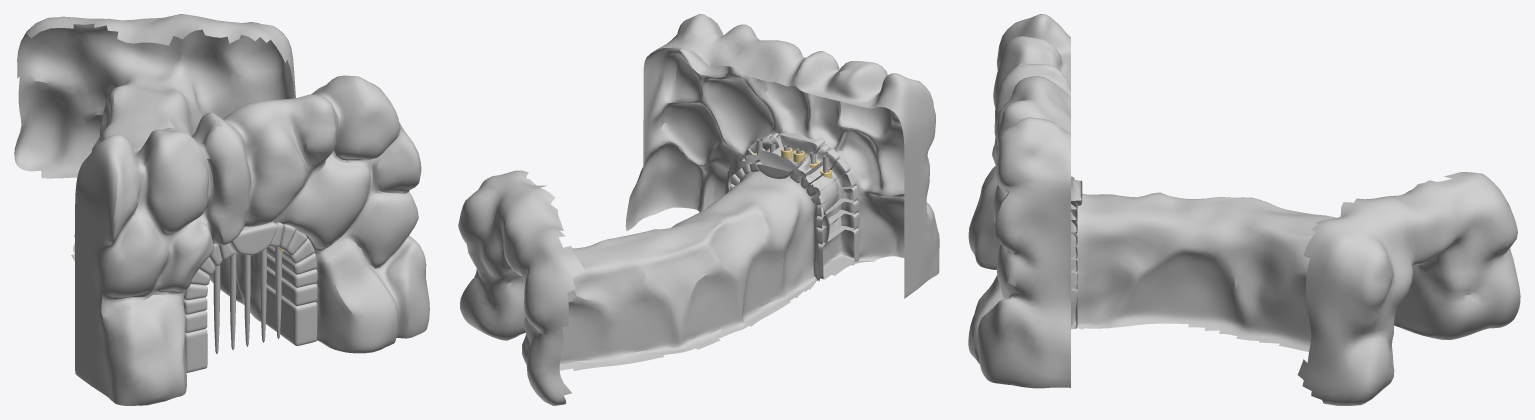
Rendered from gate01.fbx.
3 renders of one model, left to right at view 1: azimuth 30°, elevation 25°; view 2: azimuth 150°, elevation 25°; view 3: azimuth 270°, elevation 25°, orthographic. The views are drawn at different scales.
Visible parts, largest first — view 1: rocks, tunnel, gate, bars3, bars2, bars1; view 2: tunnel, rocks, gate; view 3: tunnel, rocks, gate.
Boxes of the visible parts, left/top/right/bottom form: rocks: left=75, top=75, right=429, bottom=405; tunnel: left=14, top=14, right=295, bottom=321; gate: left=183, top=221, right=317, bottom=372; bars3: left=229, top=251, right=250, bottom=349; bars2: left=213, top=248, right=266, bottom=353; bars1: left=275, top=247, right=281, bottom=338; tunnel: left=458, top=150, right=820, bottom=405; rocks: left=625, top=14, right=939, bottom=298; gate: left=730, top=132, right=859, bottom=279; tunnel: left=1071, top=172, right=1520, bottom=405; rocks: left=968, top=14, right=1070, bottom=388; gate: left=1071, top=180, right=1082, bottom=329.
Size of the model in its own units: 11.36 by 7.75 by 15.59.
